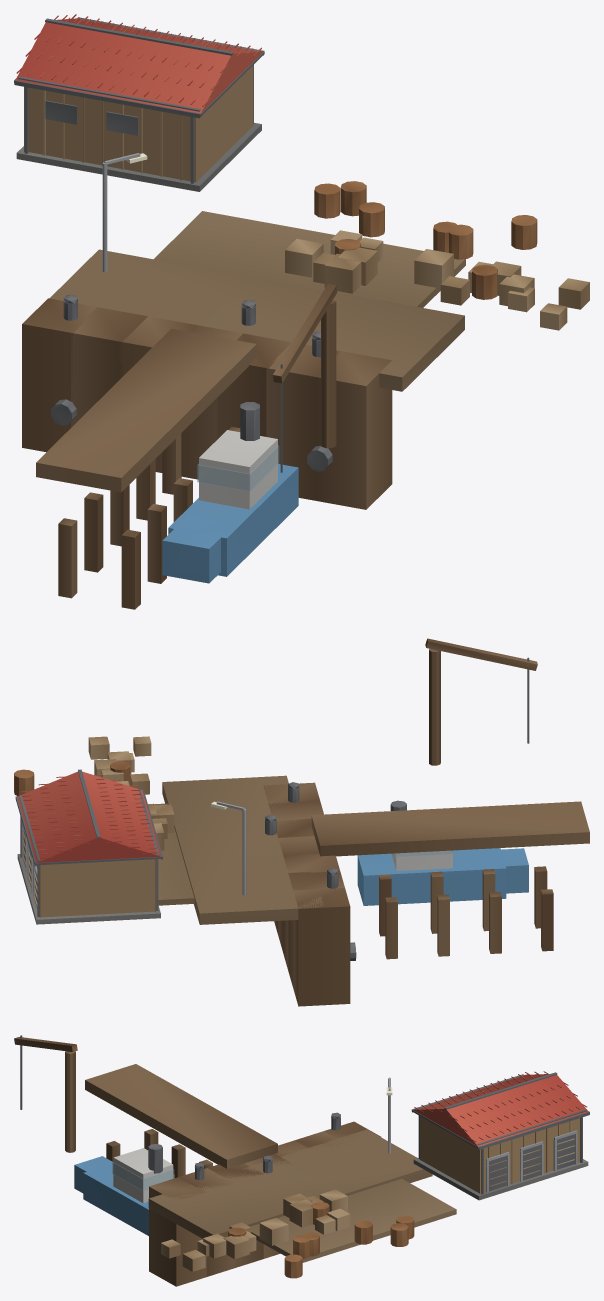
Rendered from Port_P1.fbx.
3 views of the same model, one above another, from view 1: azimuth 30°, elevation 25°; view 2: azimuth 150°, elevation 25°; view 3: azimuth 270°, elevation 25° (orthographic). The views are drawn at different scales.
Visible parts, largest first — view 1: Port.QuayWall, Port.Shed, Port.Apron, Port.Pier0, Port.Crates, Port.Boat, Port.Derrick, Port.Lamp0; view 2: Port.Shed, Port.Pier0, Port.Apron, Port.QuayWall, Port.Boat, Port.Crates, Port.Derrick, Port.Lamp0; view 3: Port.Apron, Port.Shed, Port.Pier0, Port.Crates, Port.QuayWall, Port.Boat, Port.Derrick.
Part boxes in pixels (box(x1,y1,x2,y2)): Port.QuayWall: box(22, 298, 392, 509); Port.Shed: box(14, 14, 264, 191); Port.Apron: box(49, 211, 465, 391); Port.Pier0: box(36, 328, 256, 609); Port.Crates: box(285, 181, 589, 330); Port.Boat: box(162, 402, 298, 583); Port.Derrick: box(273, 284, 337, 472); Port.Lamp0: box(102, 153, 147, 272); Port.Shed: box(15, 769, 162, 924); Port.Pier0: box(311, 801, 589, 959); Port.Apron: box(154, 775, 323, 924); Port.QuayWall: box(263, 782, 356, 1006); Port.Boat: box(357, 800, 528, 905); Port.Crates: box(14, 736, 174, 850); Port.Derrick: box(425, 638, 537, 765); Port.Lamp0: box(211, 801, 246, 895); Port.Apron: box(148, 1129, 456, 1262); Port.Shed: box(411, 1071, 589, 1200); Port.Pier0: box(85, 1064, 277, 1178); Port.Crates: box(161, 1189, 414, 1278); Port.QuayWall: box(149, 1121, 380, 1286); Port.Boat: box(74, 1144, 174, 1235); Port.Derrick: box(14, 1035, 77, 1152).
Bounding box in the file's own units: 5346 × 2495 × 6334.
